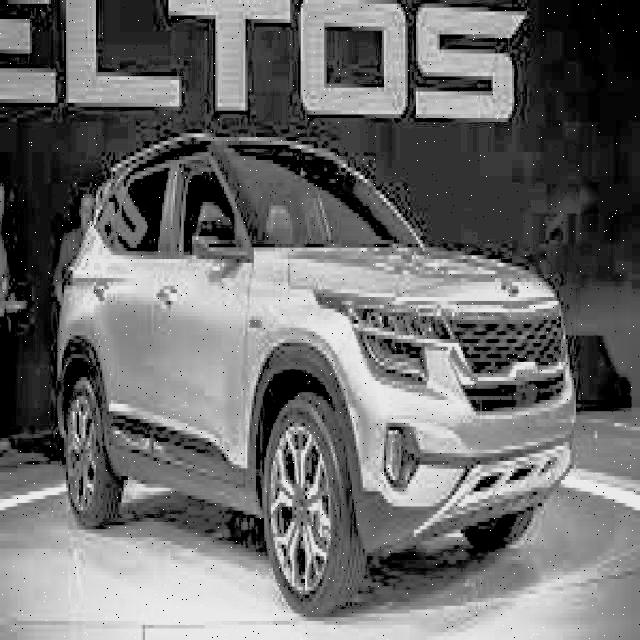Car: (50, 106, 582, 612)
